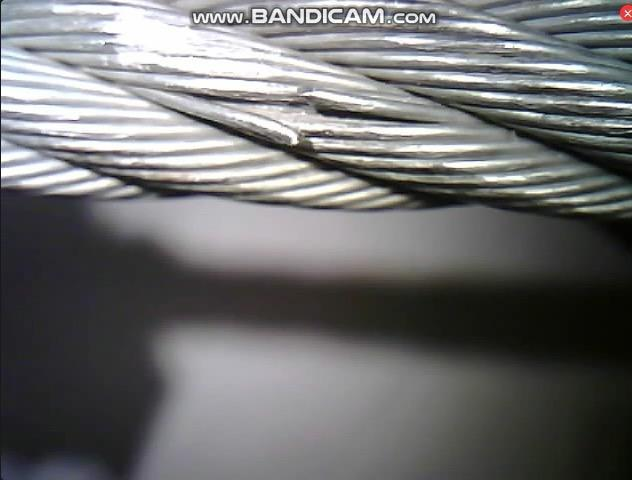break: (269, 81, 333, 158)
